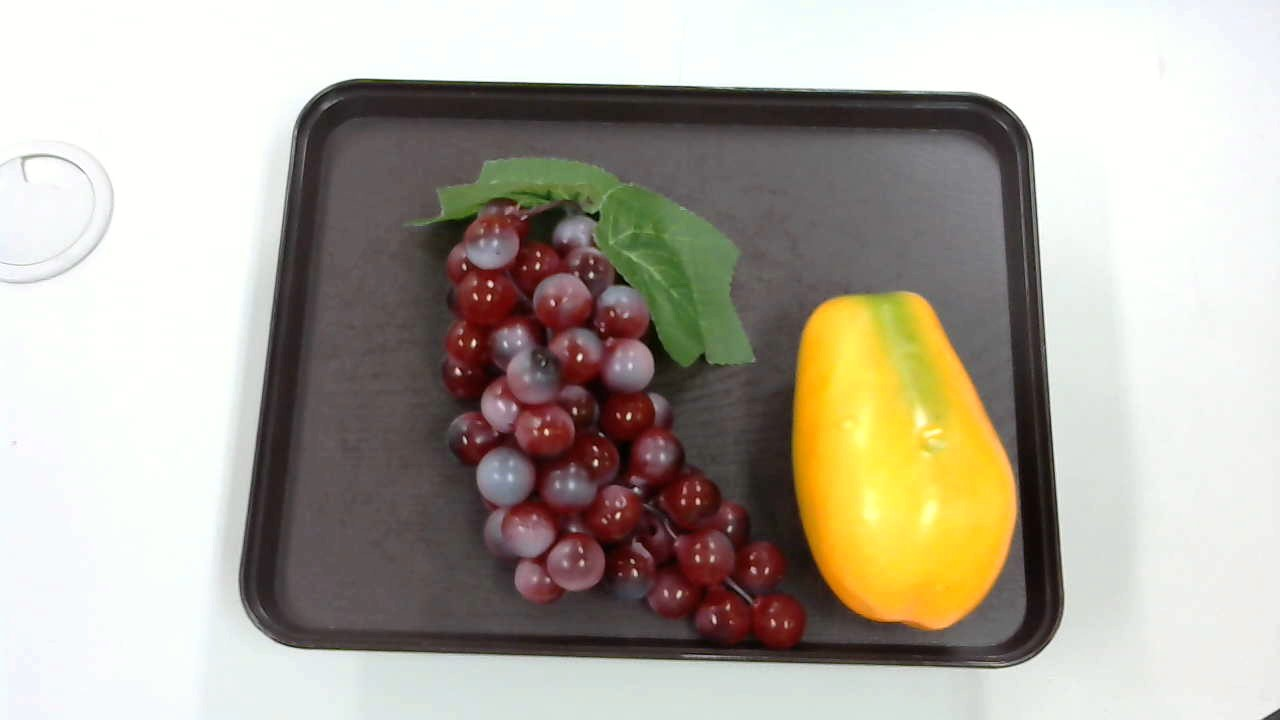grape: (400, 159, 808, 658)
papya: (785, 290, 1022, 629)
